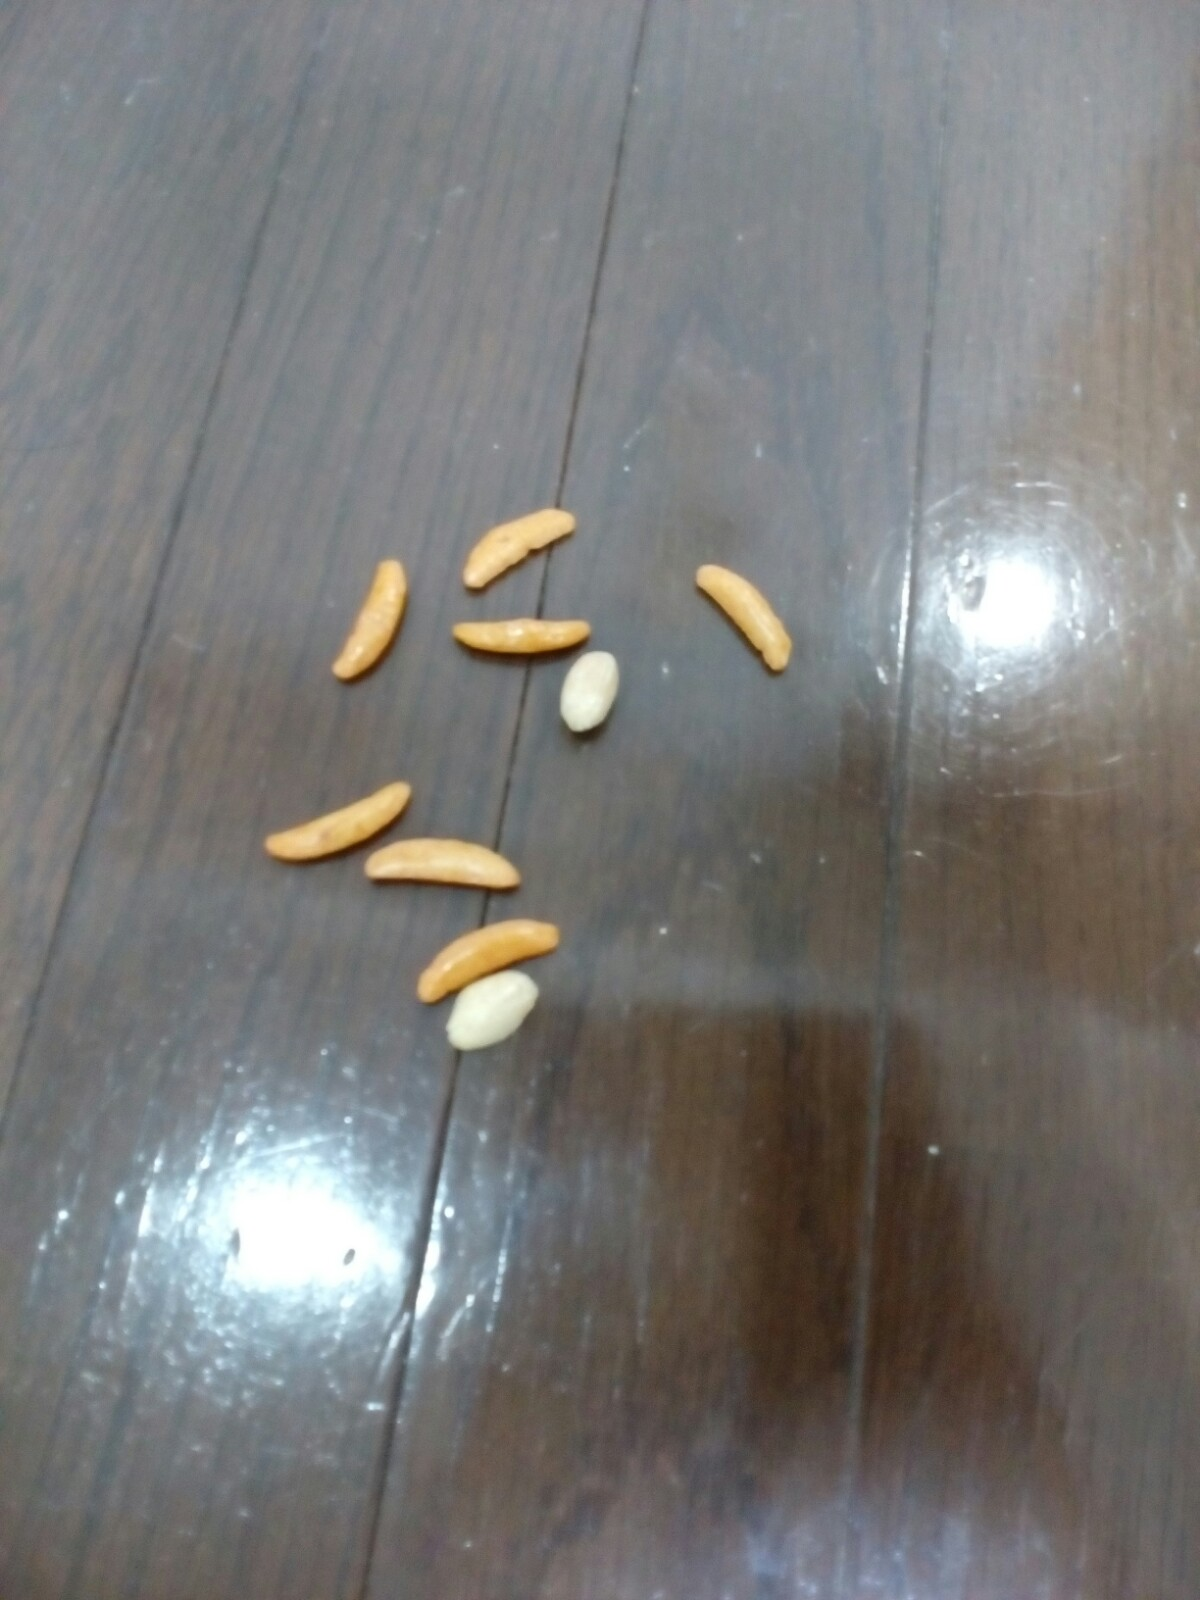peanut: (437, 961, 543, 1063), (550, 644, 632, 740)
